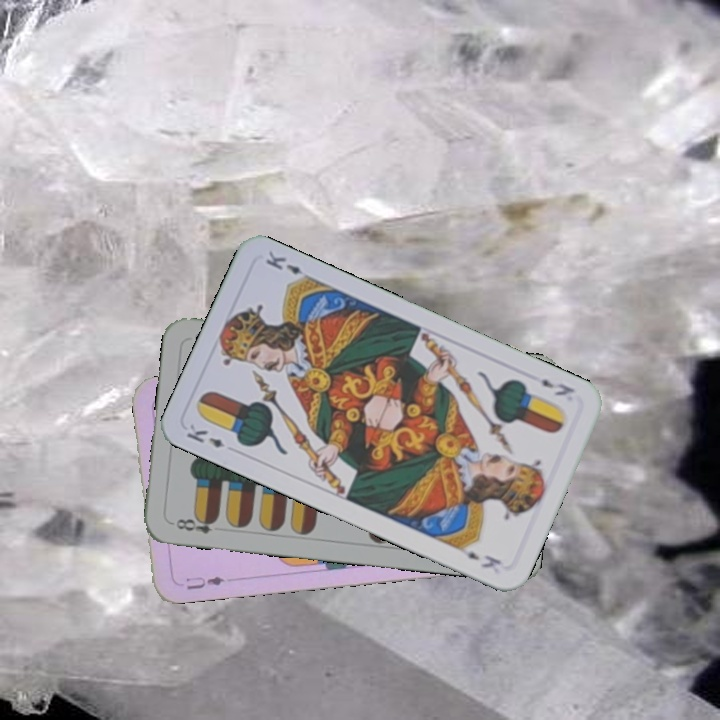E8: (168, 512, 221, 536)
EK: (182, 420, 227, 451), (537, 374, 578, 399)
EU: (181, 572, 228, 592)
